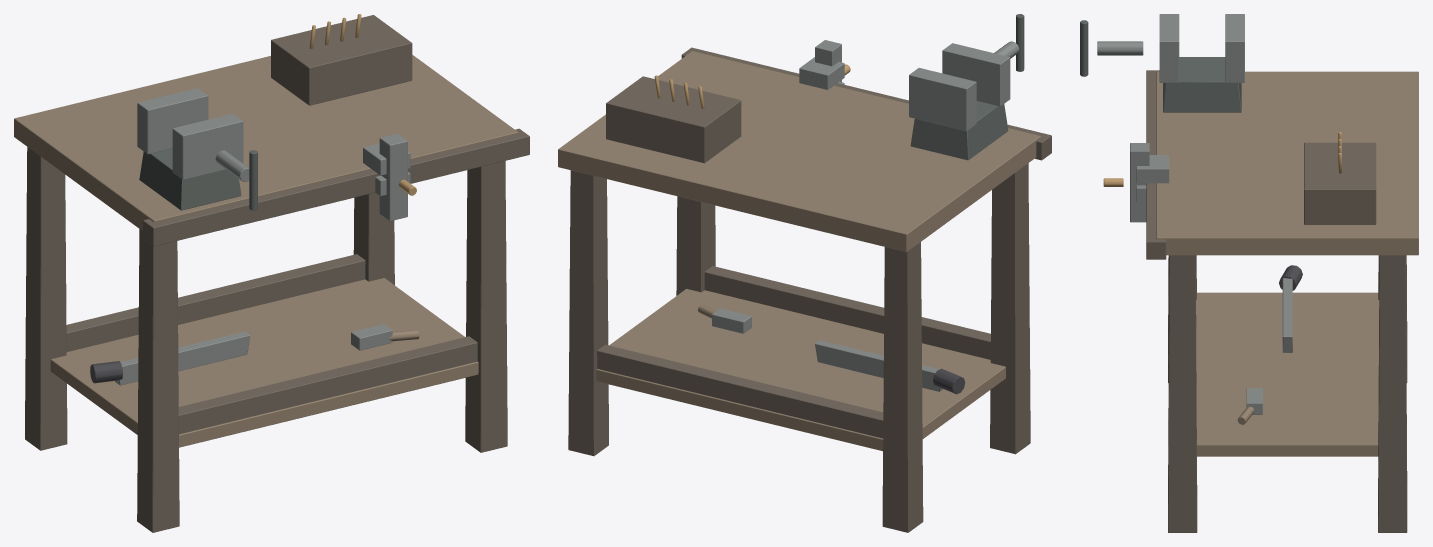
File: DD_workbench1_L3.fbx
The picture shows the model from 3 angles, left to right: view 1: azimuth 30°, elevation 25°; view 2: azimuth 150°, elevation 25°; view 3: azimuth 270°, elevation 25°; orthographic projection. The views are drawn at different scales.
Visible parts, largest first — view 1: DD_workbench1_L3; view 2: DD_workbench1_L3; view 3: DD_workbench1_L3.
Boxes of the visible parts, <box> form: DD_workbench1_L3: <box>14,14,529,532</box>; DD_workbench1_L3: <box>558,14,1051,532</box>; DD_workbench1_L3: <box>1080,14,1418,532</box>.
Size of the model in its own units: 1.24 by 1.26 by 1.03.
